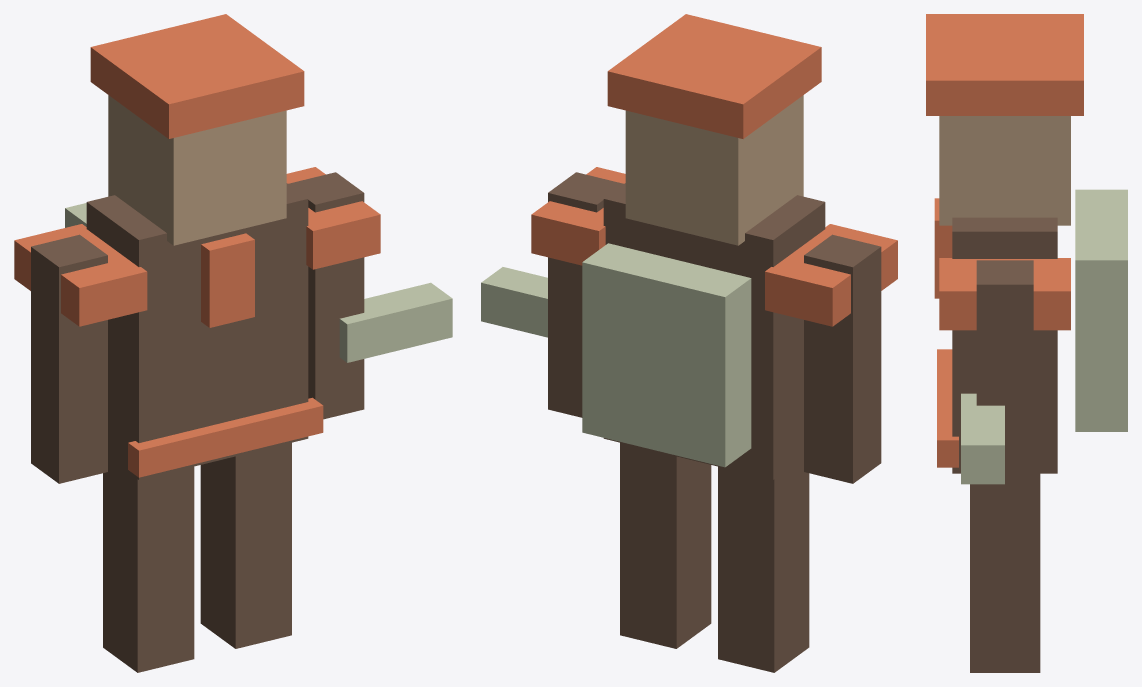
The model's file is 12_maelis_ashvein_runner_at_echo.glb.
3 views of the same model, side by side, from view 1: azimuth 30°, elevation 25°; view 2: azimuth 150°, elevation 25°; view 3: azimuth 270°, elevation 25° (orthographic).
Parts seen in each view (by area): view 1: Maelis Ashvein, Runner at Echo; view 2: Maelis Ashvein, Runner at Echo; view 3: Maelis Ashvein, Runner at Echo.
Part boxes in pixels (x1,y1,x2,y2): Maelis Ashvein, Runner at Echo: (14, 14, 452, 672); Maelis Ashvein, Runner at Echo: (481, 14, 897, 672); Maelis Ashvein, Runner at Echo: (926, 14, 1127, 672).
Bounding box in the file's own units: 0.9971 × 1.44 × 0.4475.
